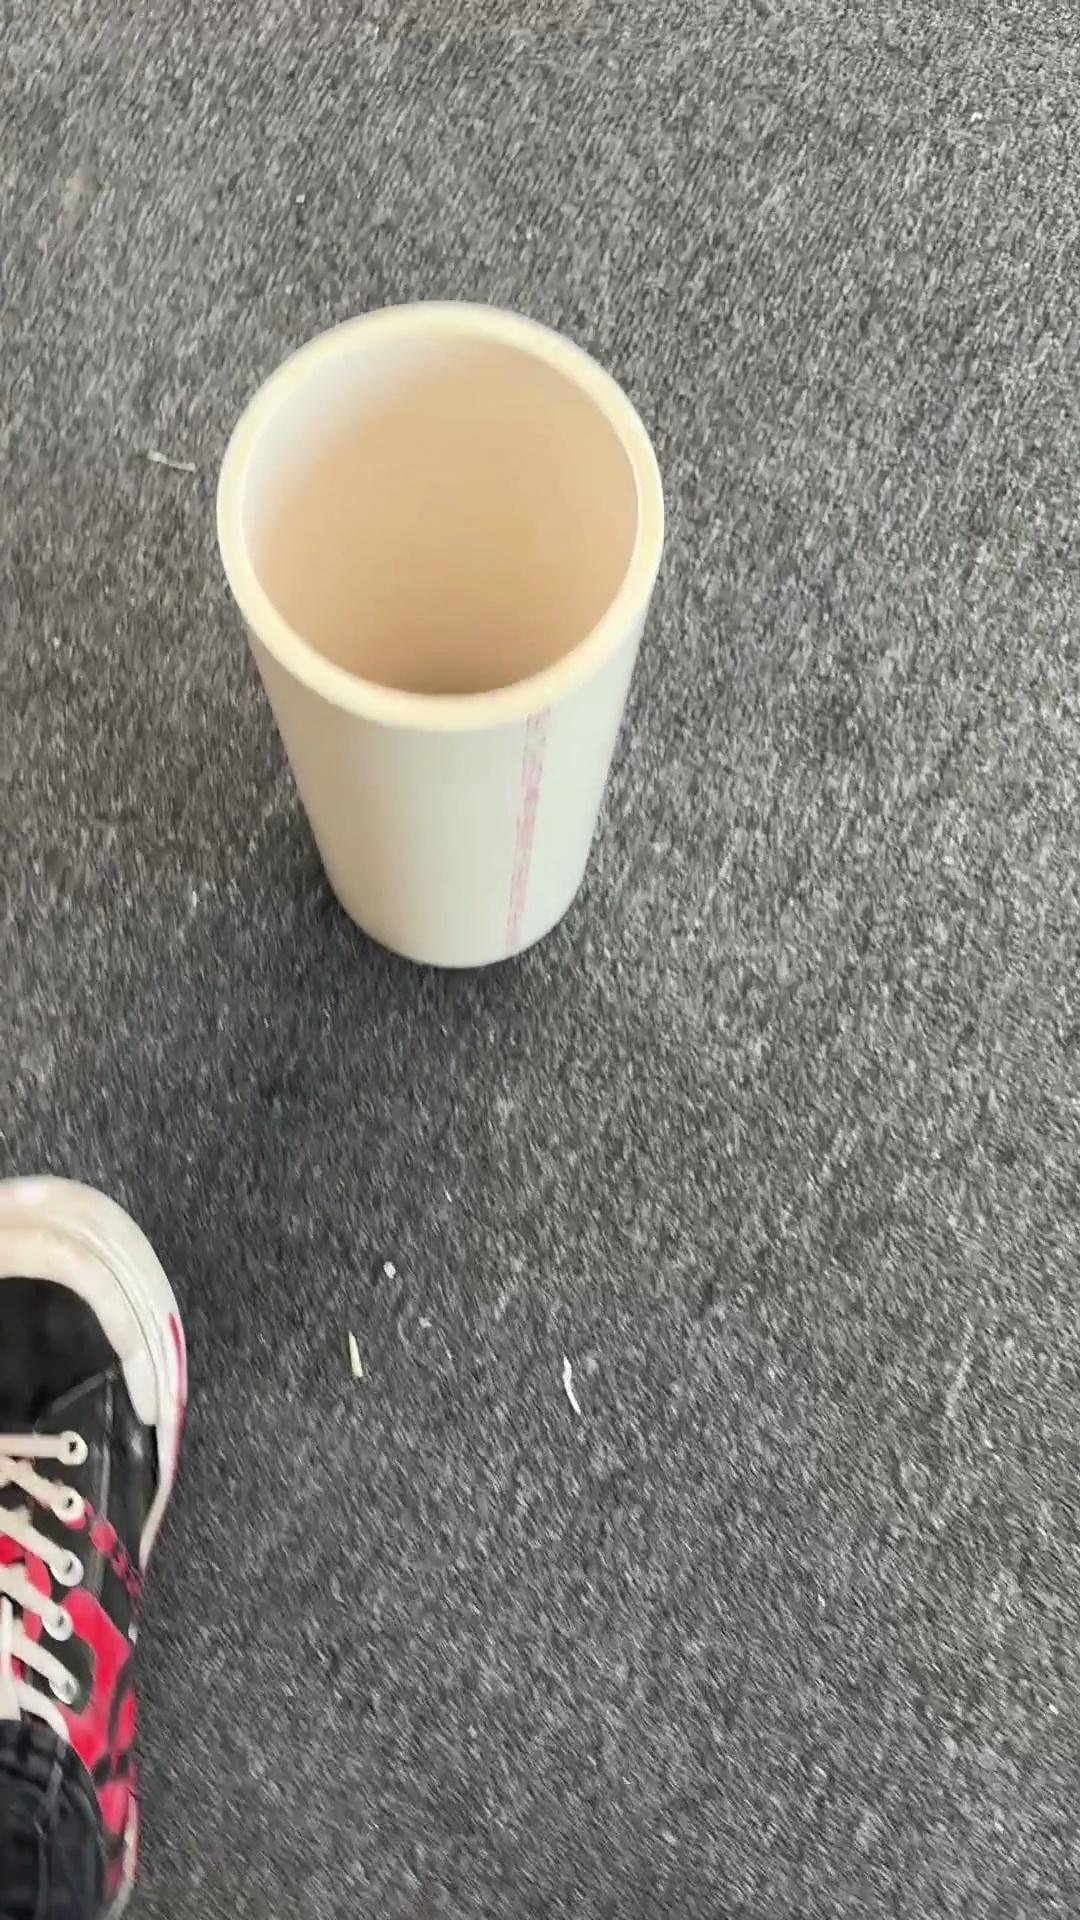CORAL: (211, 295, 669, 971)
